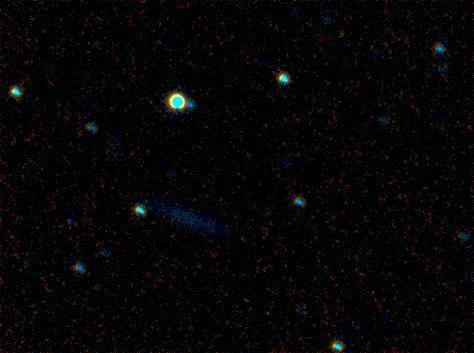star: (251, 299, 281, 329)
